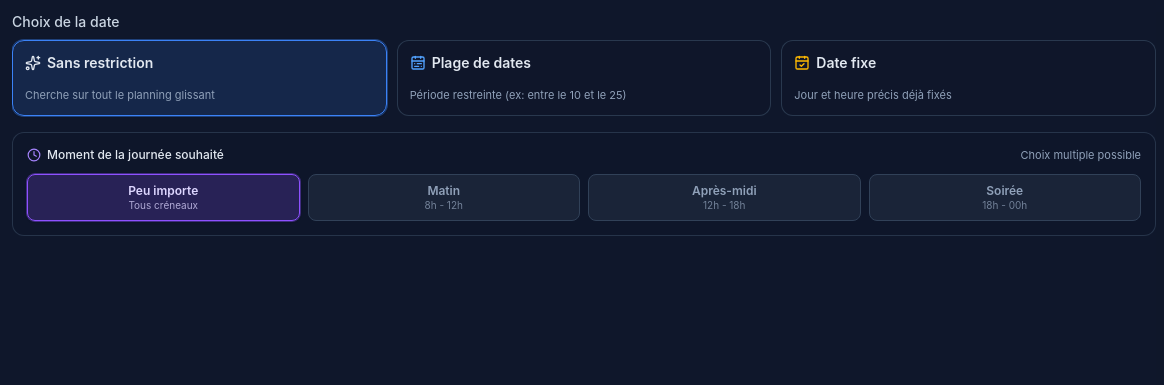
Test case: EventTimePreference (Selector & Badges) › shows Moment de la journée souhaité in any and range modes, hides in fixed mode, and supports multi-selection
expect the text "Moment de la journée souhaité" is shown: met, box left=47, top=147, right=224, bottom=163
Sélection Soirée + Après-midi
Click the button "Soirée 18h - 00h" at (1005, 197), box left=868, top=174, right=1141, bottom=221
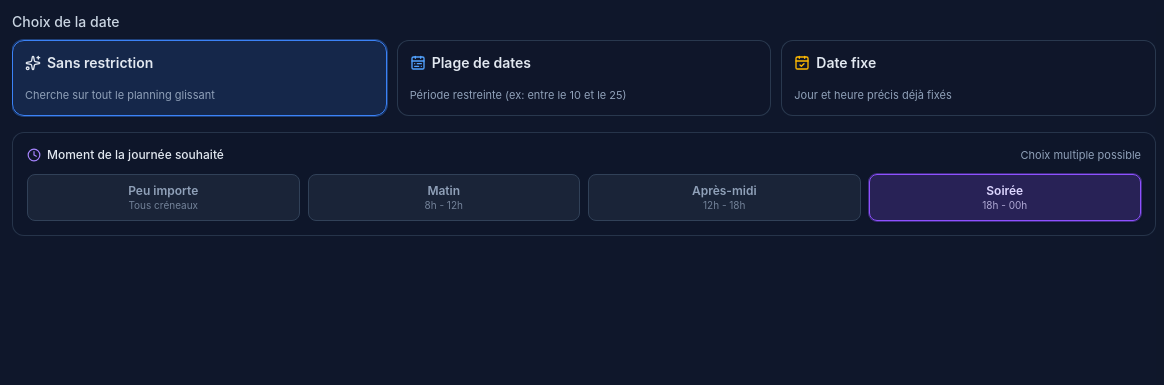
expect the button "Peu importe Tous créneaux" is not pressed: met, box left=27, top=174, right=300, bottom=221
expect the button "Soirée 18h - 00h" is pressed: met, box left=868, top=174, right=1141, bottom=221
Click the button "Après-midi 12h - 18h" at (724, 197), box left=588, top=174, right=860, bottom=221
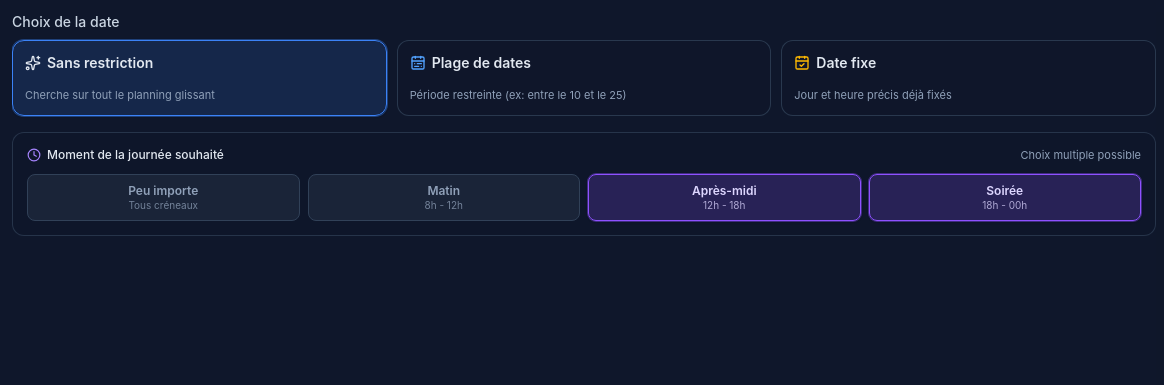
expect the button "Après-midi 12h - 18h" is pressed: met, box left=588, top=174, right=860, bottom=221
expect the button "Soirée 18h - 00h" is pressed: met, box left=868, top=174, right=1141, bottom=221
Click the button "Matin 8h - 12h" at (444, 197), box left=308, top=174, right=580, bottom=221
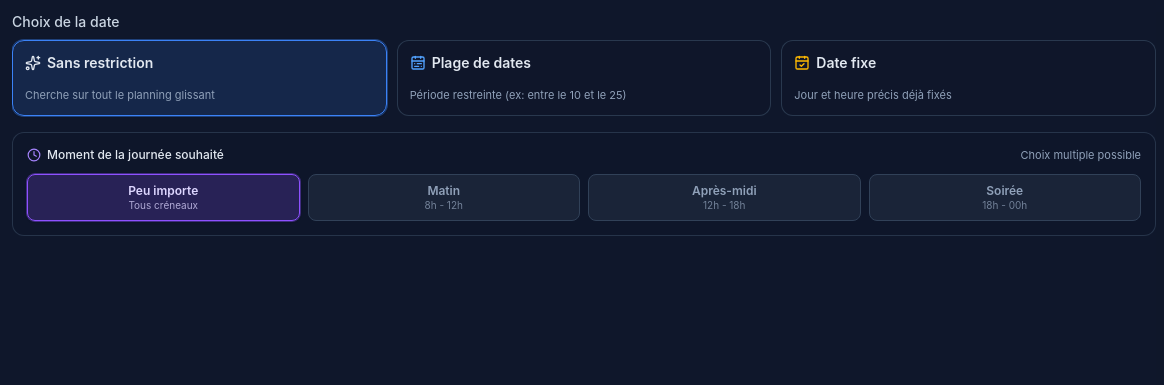
expect the button "Peu importe Tous créneaux" is pressed: met, box left=27, top=174, right=300, bottom=221
Toujours présent en mode Plage de dates
Click the button "Plage de dates Période restreinte (ex: entre le 10 et le 25)" at (481, 62), box left=397, top=40, right=771, bottom=116
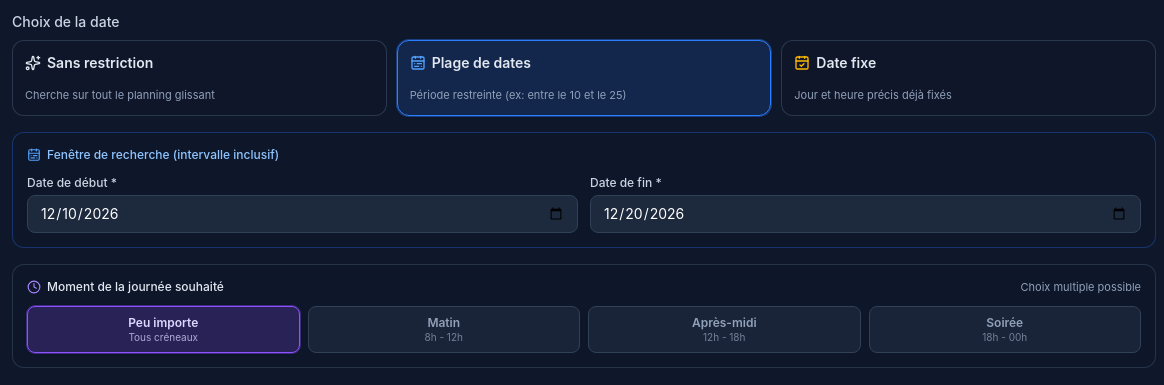
expect the text "Moment de la journée souhaité" is shown: met, box left=47, top=279, right=224, bottom=295
Masqué en mode Date fixe (qui porte son propre sélecteur d'heure fixe)
Click the button "Date fixe Jour et heure précis déjà fixés" at (846, 62), box left=781, top=40, right=1156, bottom=116
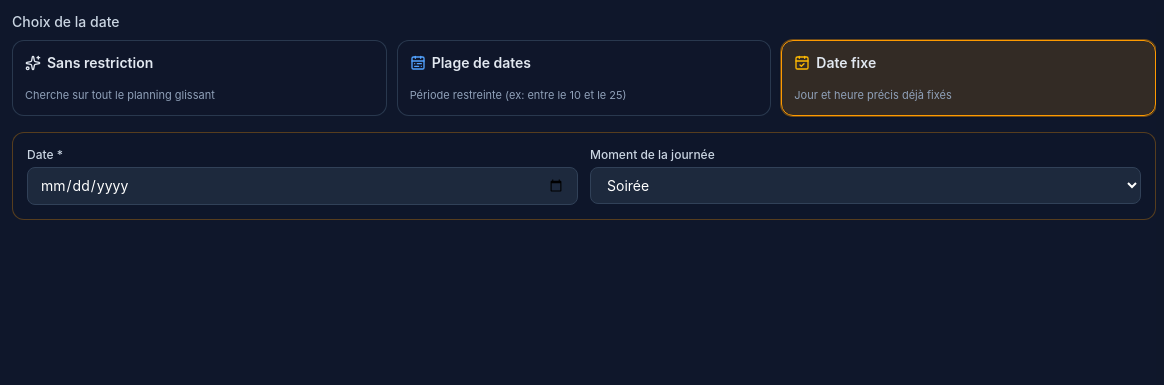
expect the text "Moment de la journée souhaité" is gone: met
